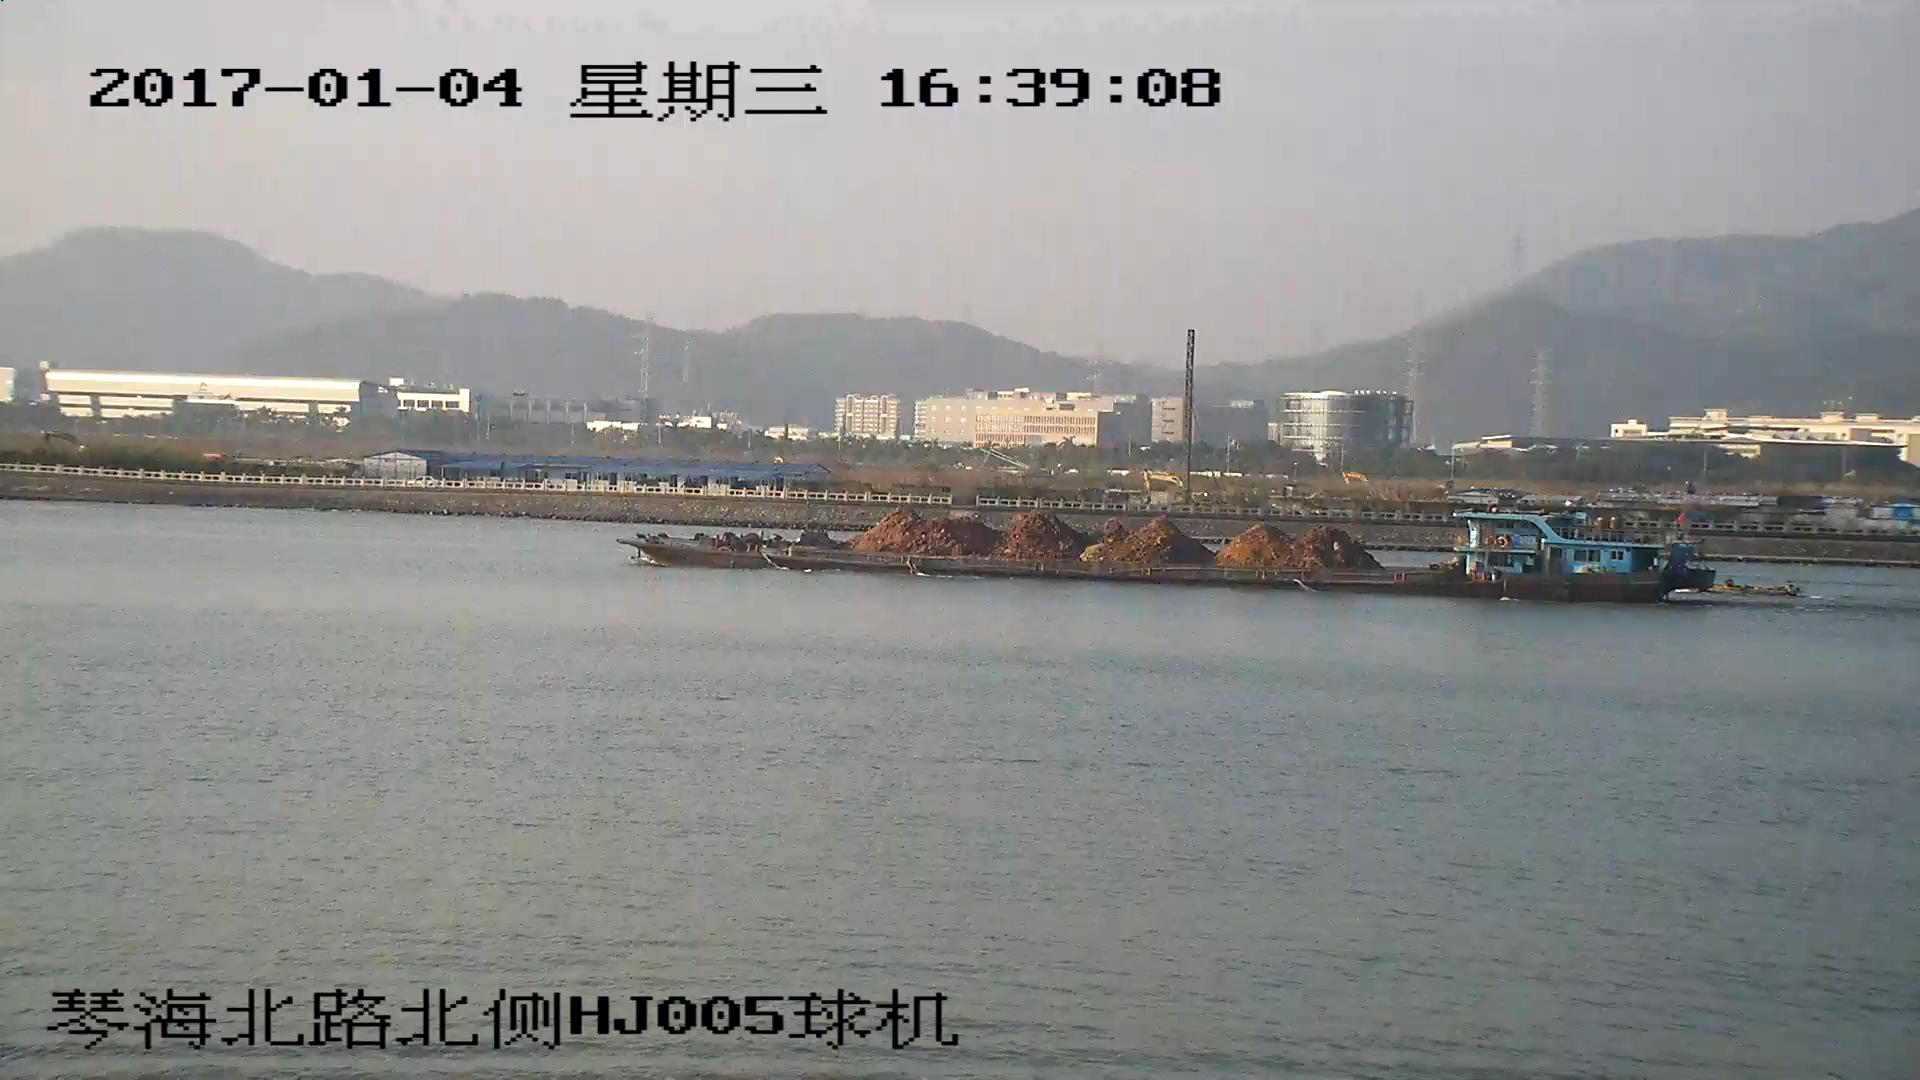ore carrier: (622, 508, 1720, 605)
